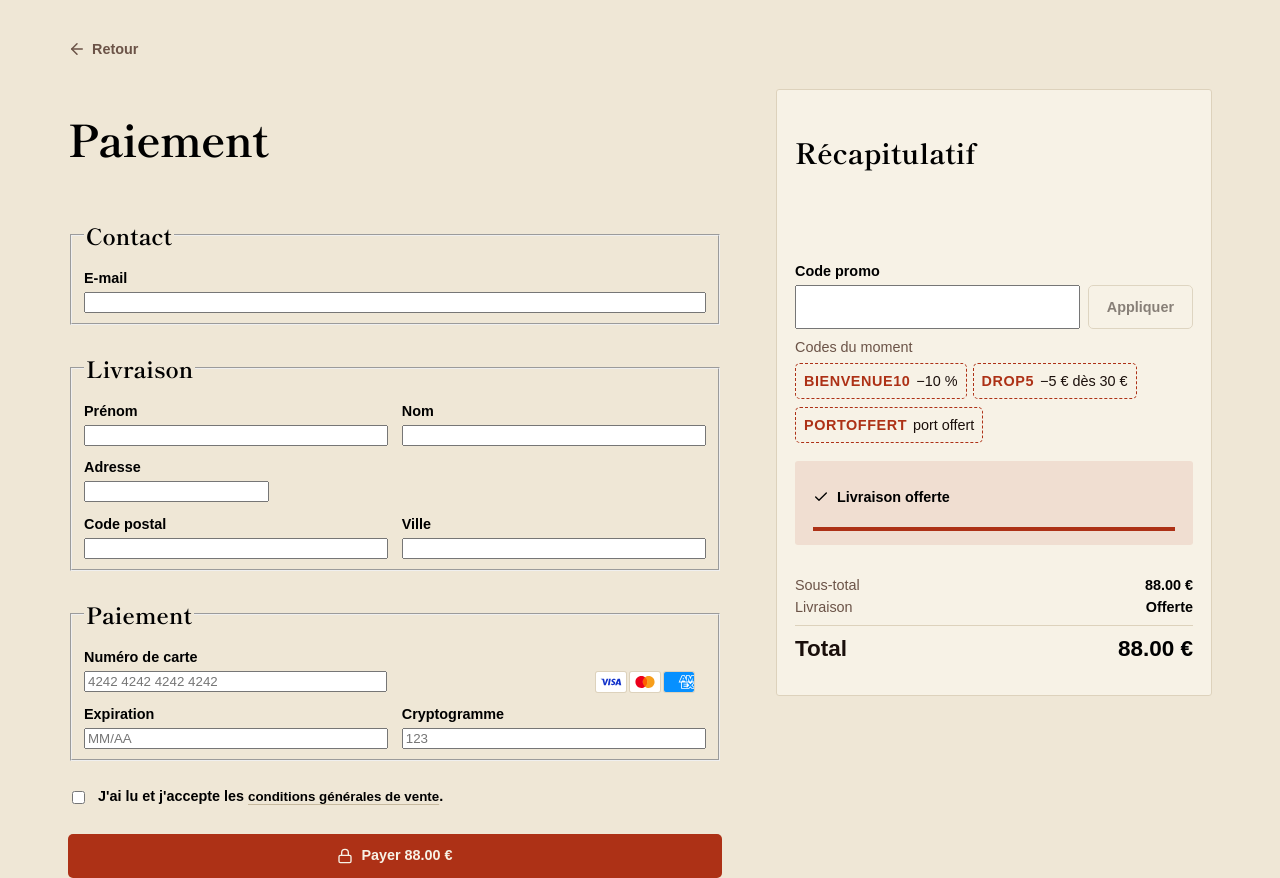
Test: numéro de carte › un numéro inachevé ne dit rien avant la sortie du champ
This screenshot has width=1280, height=878.
Type "4242 4242" into the field labelled "Numéro de carte" at coordinates (236, 682), box [84,671,387,692]
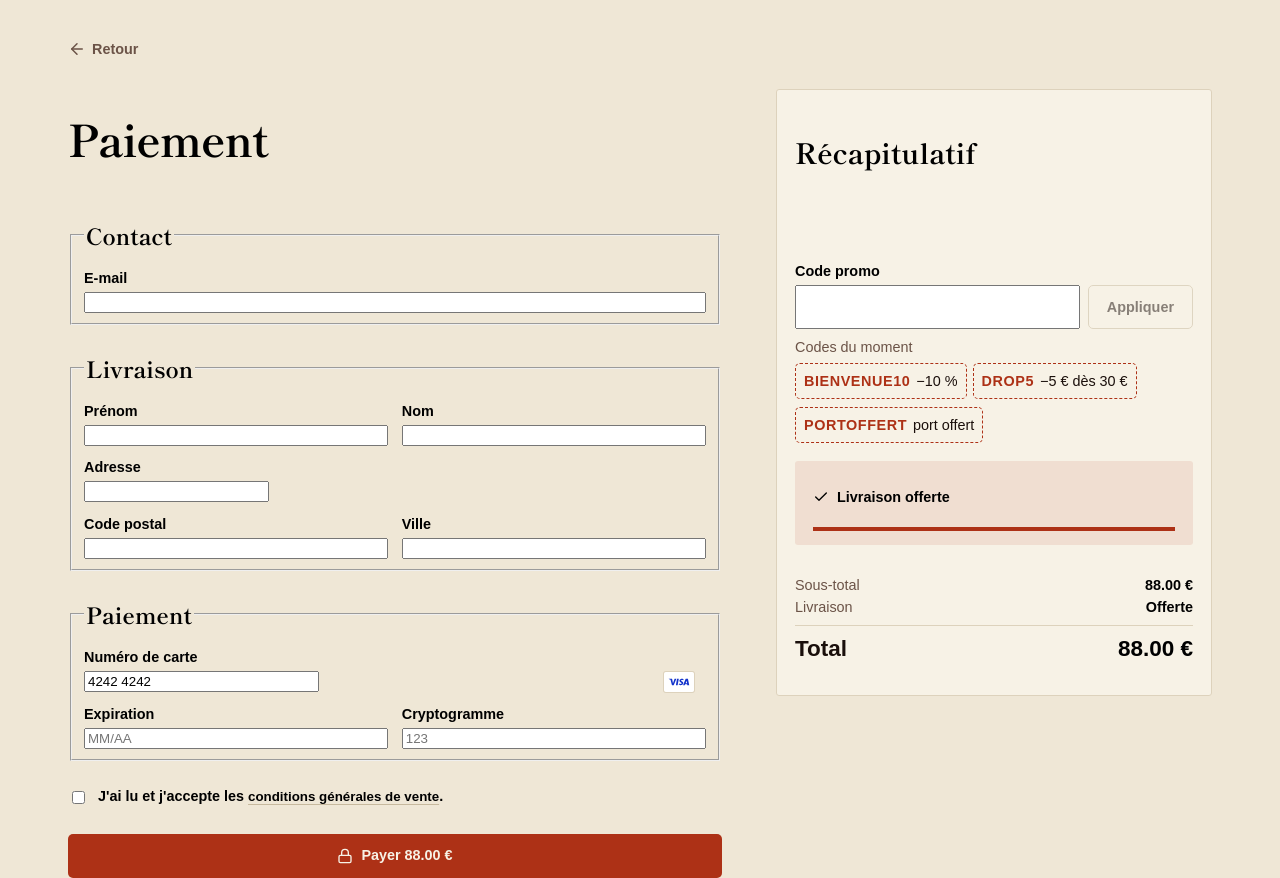
Leave the field labelled "Numéro de carte", box [84,671,319,692]
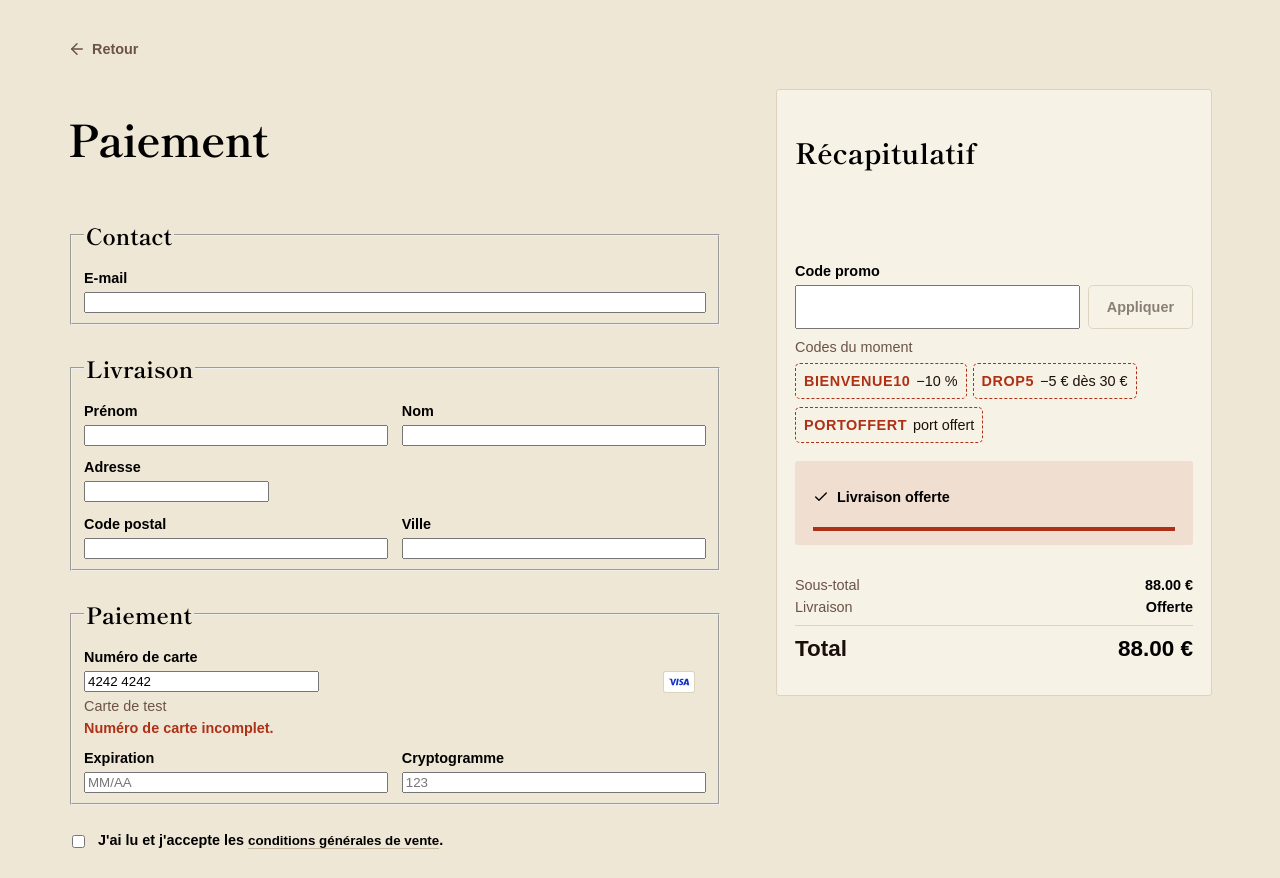
Expected: the text "Numéro de carte incomplet." is shown, [84,720,274,736]
